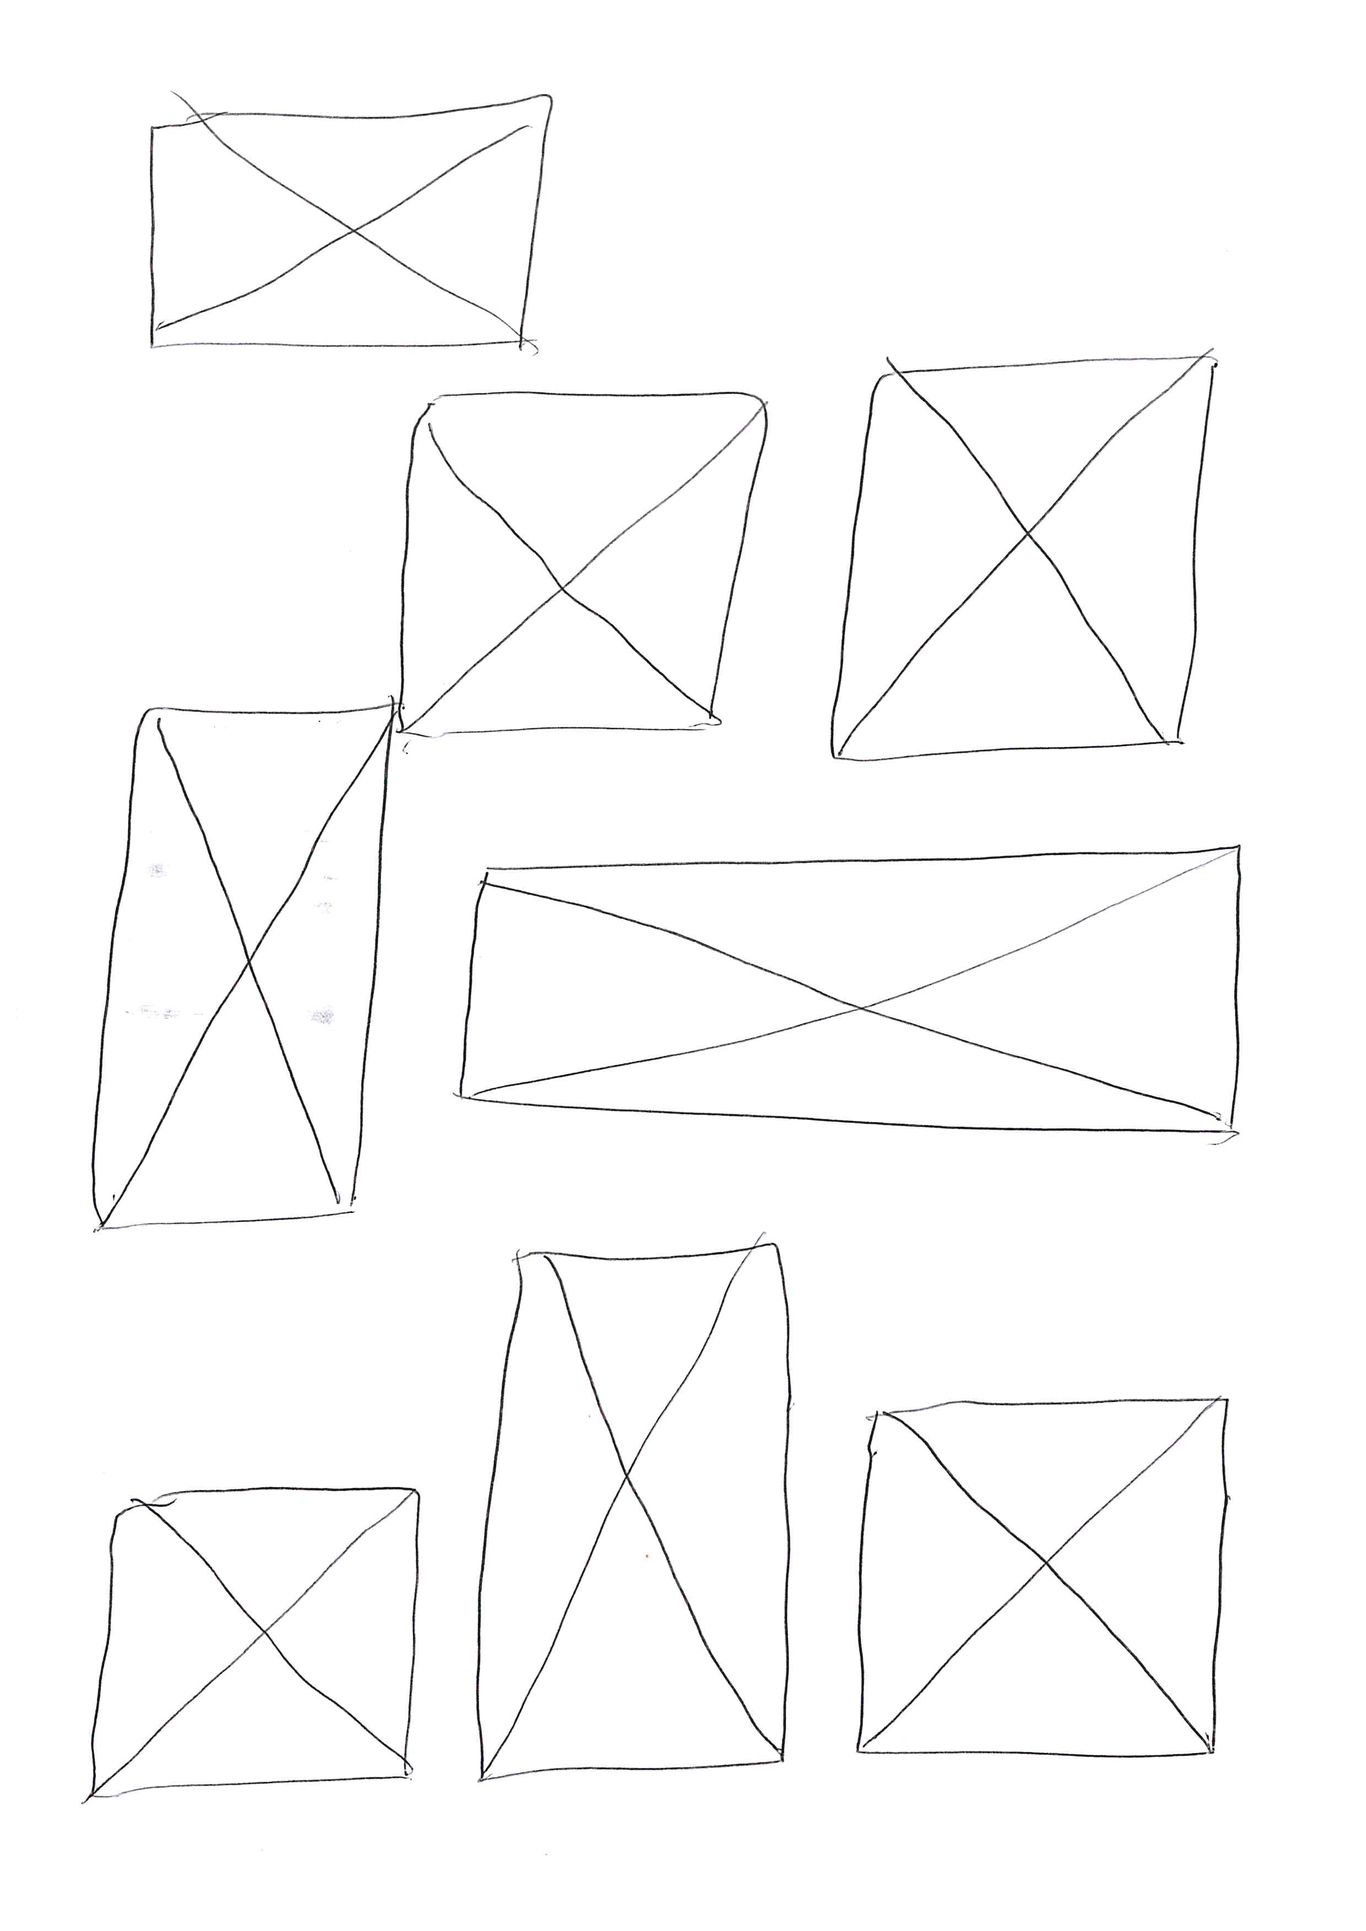Image: (452, 844, 1248, 1138), (469, 1241, 798, 1785), (86, 705, 392, 1229), (849, 1391, 1233, 1765), (392, 381, 764, 735), (142, 84, 556, 356), (83, 1479, 427, 1796)
